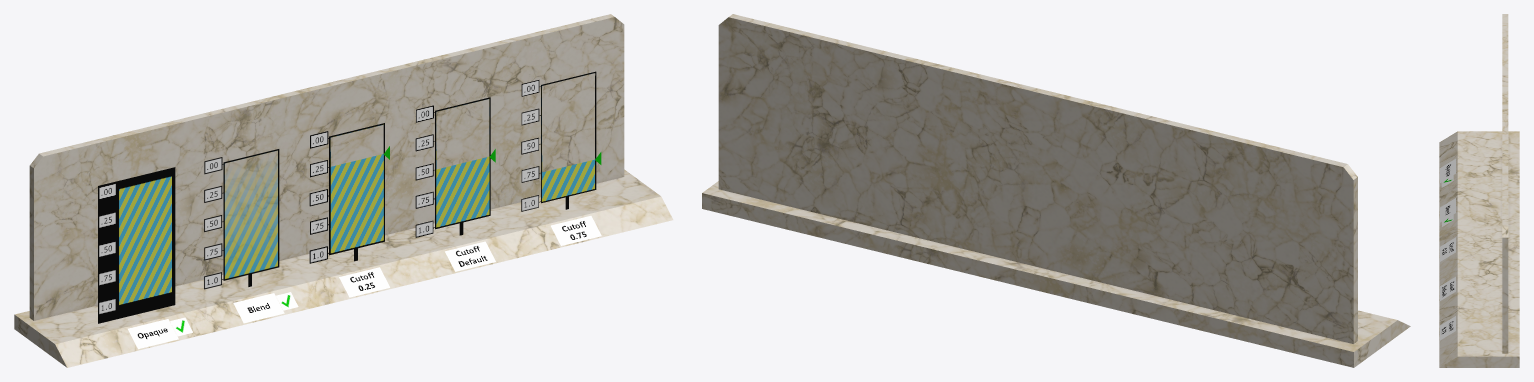
File: alpha_blend_mode_test.gltf
3 renders of one model, left to right at view 1: azimuth 30°, elevation 25°; view 2: azimuth 150°, elevation 25°; view 3: azimuth 270°, elevation 25°, orthographic. The views are drawn at different scales.
Parts seen in each view (by area): view 1: Bed, TestOpaque, TestBlend, TestCutoff25, DecalOpaque, TestCutoffDefault, TestCutoff75; view 2: Bed; view 3: Bed, DecalOpaque.
Part boxes in pixels (x1,y1,x2,y2): Bed: [14, 14, 673, 367]; TestOpaque: [98, 167, 175, 323]; TestBlend: [204, 149, 279, 289]; TestCutoff25: [309, 123, 384, 263]; DecalOpaque: [128, 216, 601, 349]; TestCutoffDefault: [415, 97, 490, 237]; TestCutoff75: [521, 71, 596, 211]; Bed: [702, 14, 1410, 367]; Bed: [1439, 14, 1519, 367]; DecalOpaque: [1440, 158, 1455, 340].
Size of the model in its own units: 8.6 by 2.4 by 1.3.
6 materials, 6 textured.
